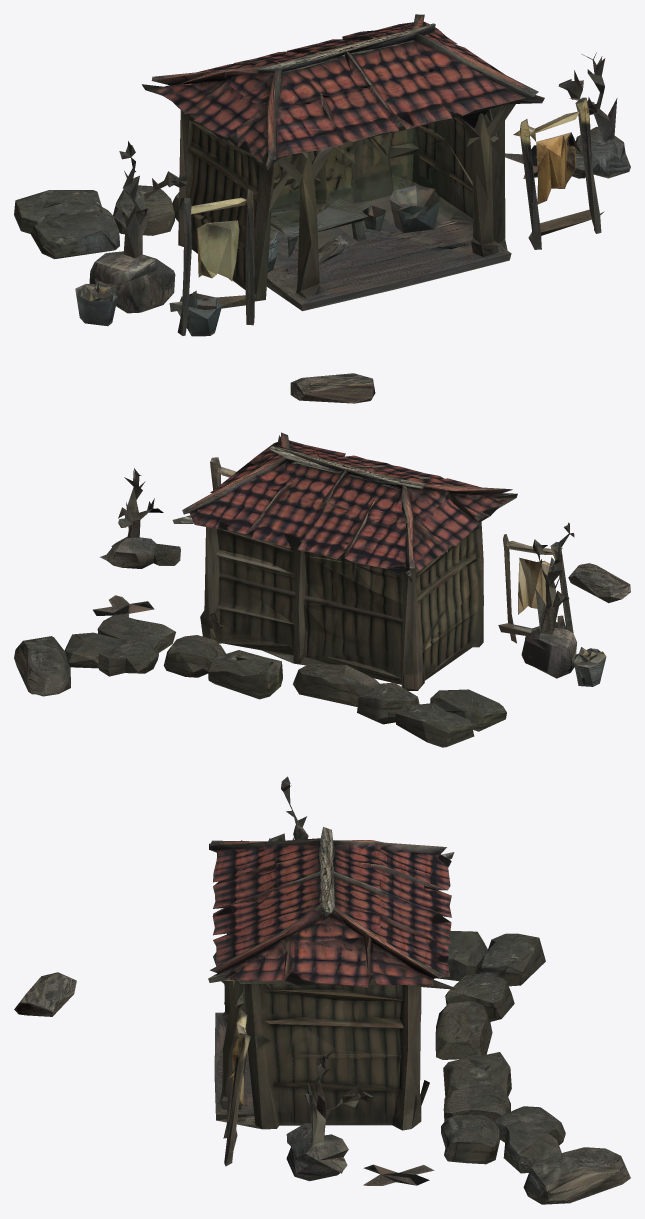
File: tannery.glb
3 views of the same model, one above another, from view 1: azimuth 30°, elevation 25°; view 2: azimuth 150°, elevation 25°; view 3: azimuth 270°, elevation 25° (orthographic). The views are drawn at different scales.
Bounding box in the file's own units: 1.9 × 0.6826 × 1.81.
Materials: 1 (1 with a texture image).
